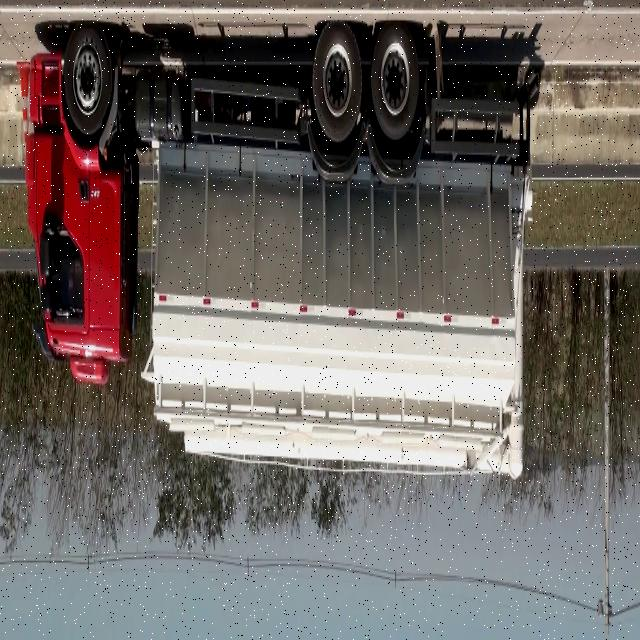-axle: (312, 23, 362, 143), (65, 25, 113, 139), (372, 24, 418, 139)
